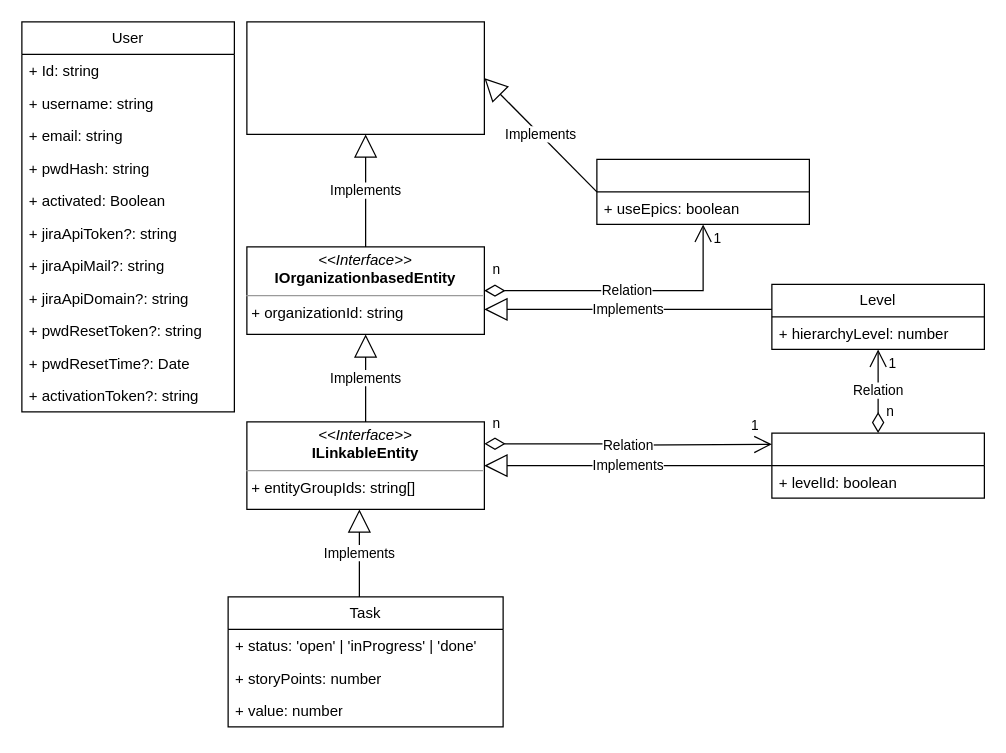
Image size: 1006x753. Some labels were removed from this diagram. Here are the shapes that lost their labels. From the top down, the box of each, then its label:
(246, 21, 484, 134): <<Interface>> IEntity + id: string + name: string + description: string
(596, 158, 809, 224): Organization
(771, 432, 984, 498): EntityGroup
